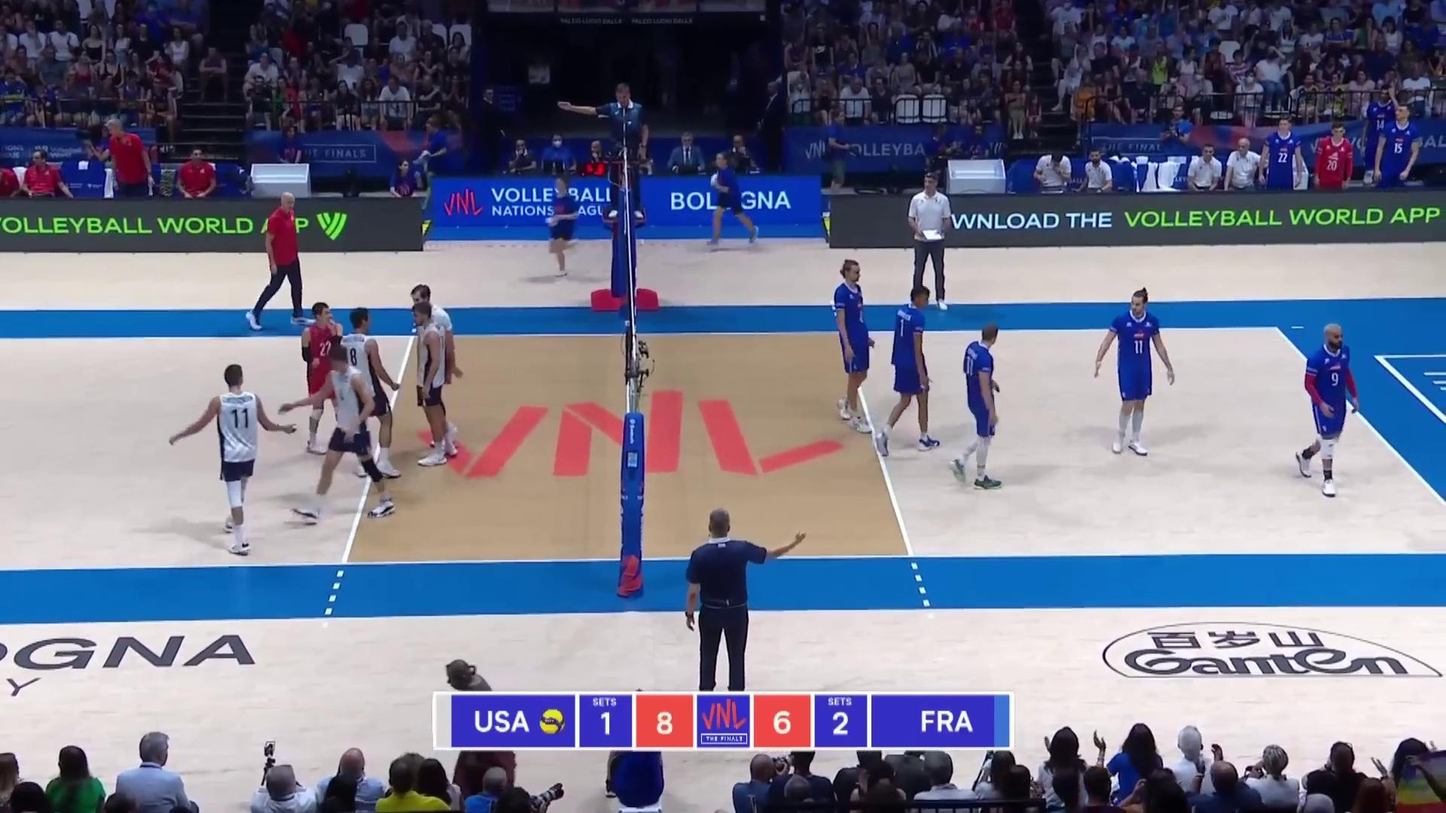player: (168, 366, 289, 551), (298, 354, 394, 528), (1090, 289, 1175, 458), (340, 303, 402, 483), (1297, 325, 1358, 495), (405, 284, 459, 455), (286, 302, 349, 446), (951, 327, 1005, 489), (890, 284, 942, 450), (830, 266, 874, 434), (411, 301, 450, 466)
refree: (684, 512, 787, 687), (584, 85, 653, 225)
